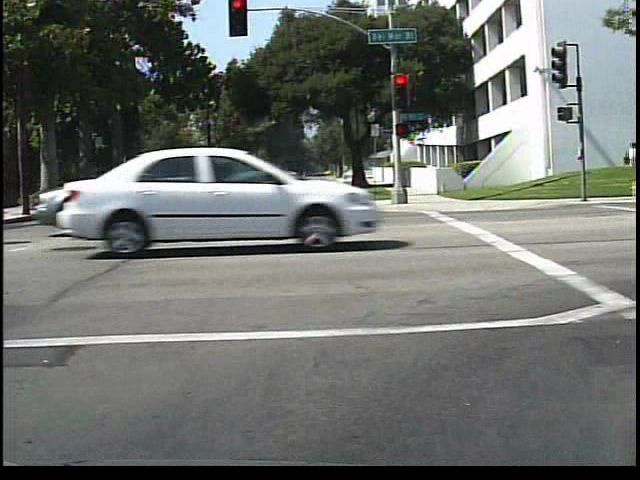person: (612, 135, 637, 193)
